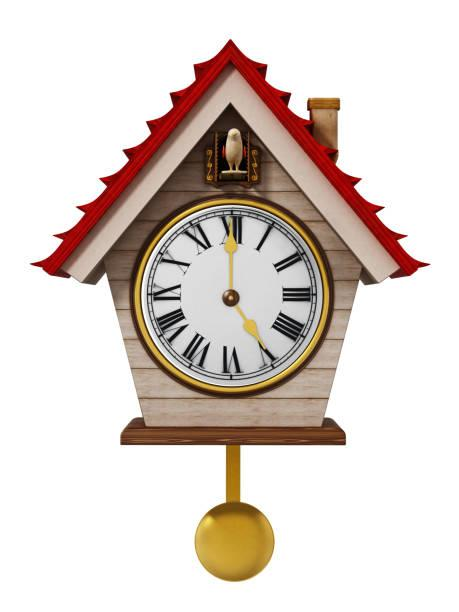clock: (133, 200, 331, 398)
